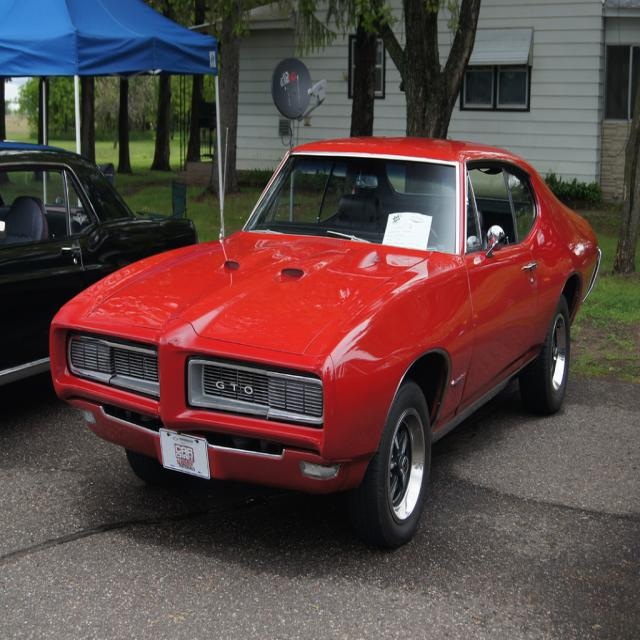car: (47, 134, 602, 541)
